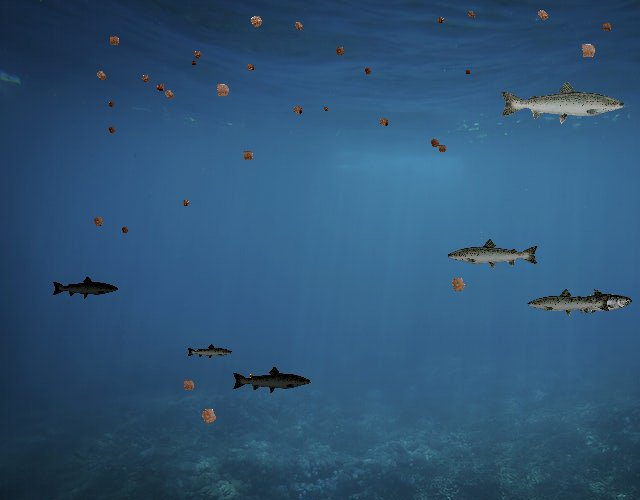Fish: (498, 79, 627, 125), (447, 238, 541, 272), (526, 287, 612, 318), (232, 366, 313, 395), (559, 288, 632, 315), (51, 276, 119, 300), (187, 344, 234, 360)
Pellet: (194, 400, 224, 430), (244, 9, 269, 34), (177, 374, 200, 397), (374, 113, 393, 132), (178, 196, 193, 211), (433, 13, 448, 27), (118, 223, 132, 237)
